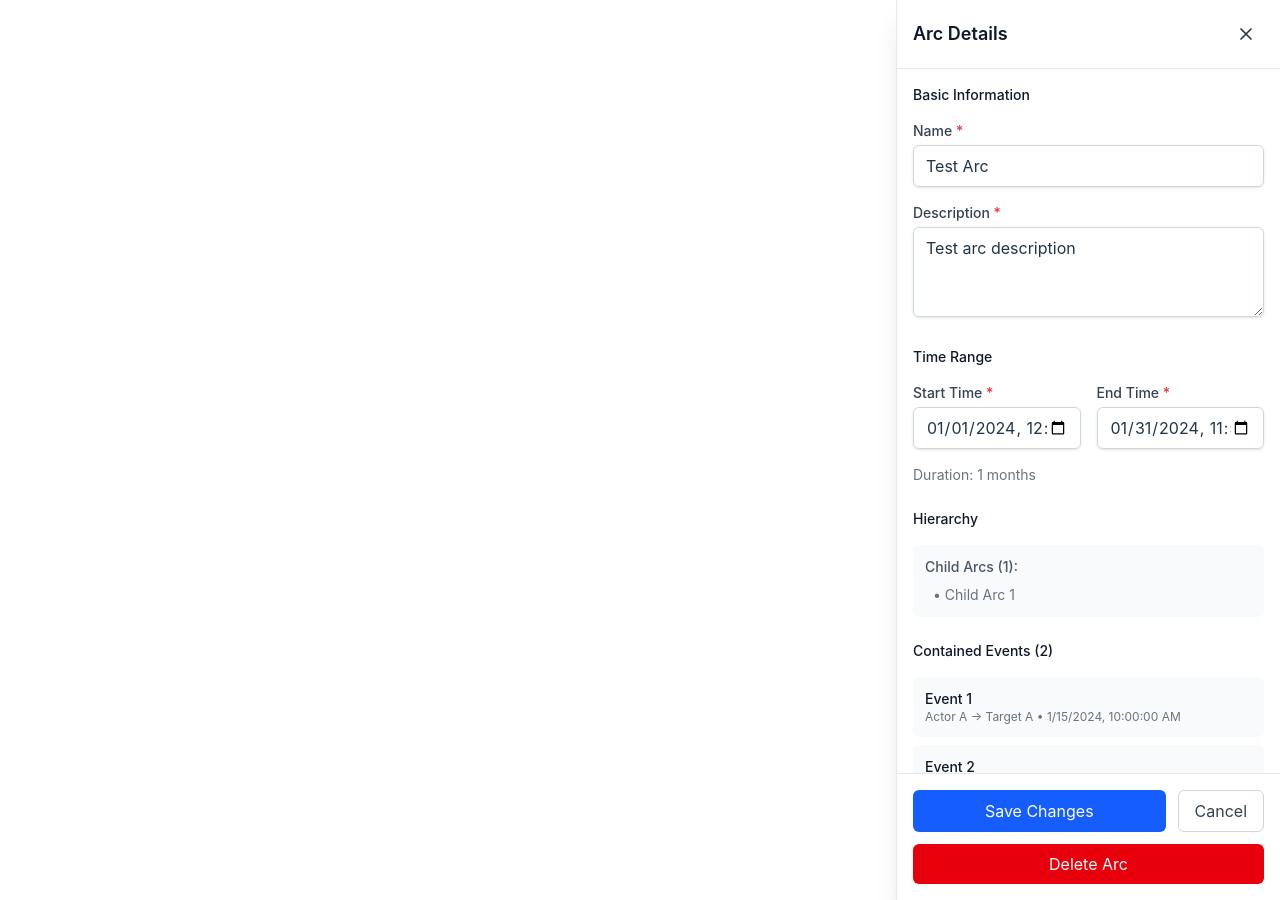
Test: Arc Creation and Editing › ArcDetailPanel › should validate required fields
Clear the field showing "Test Arc": (1088, 166) [913,145,1264,187]
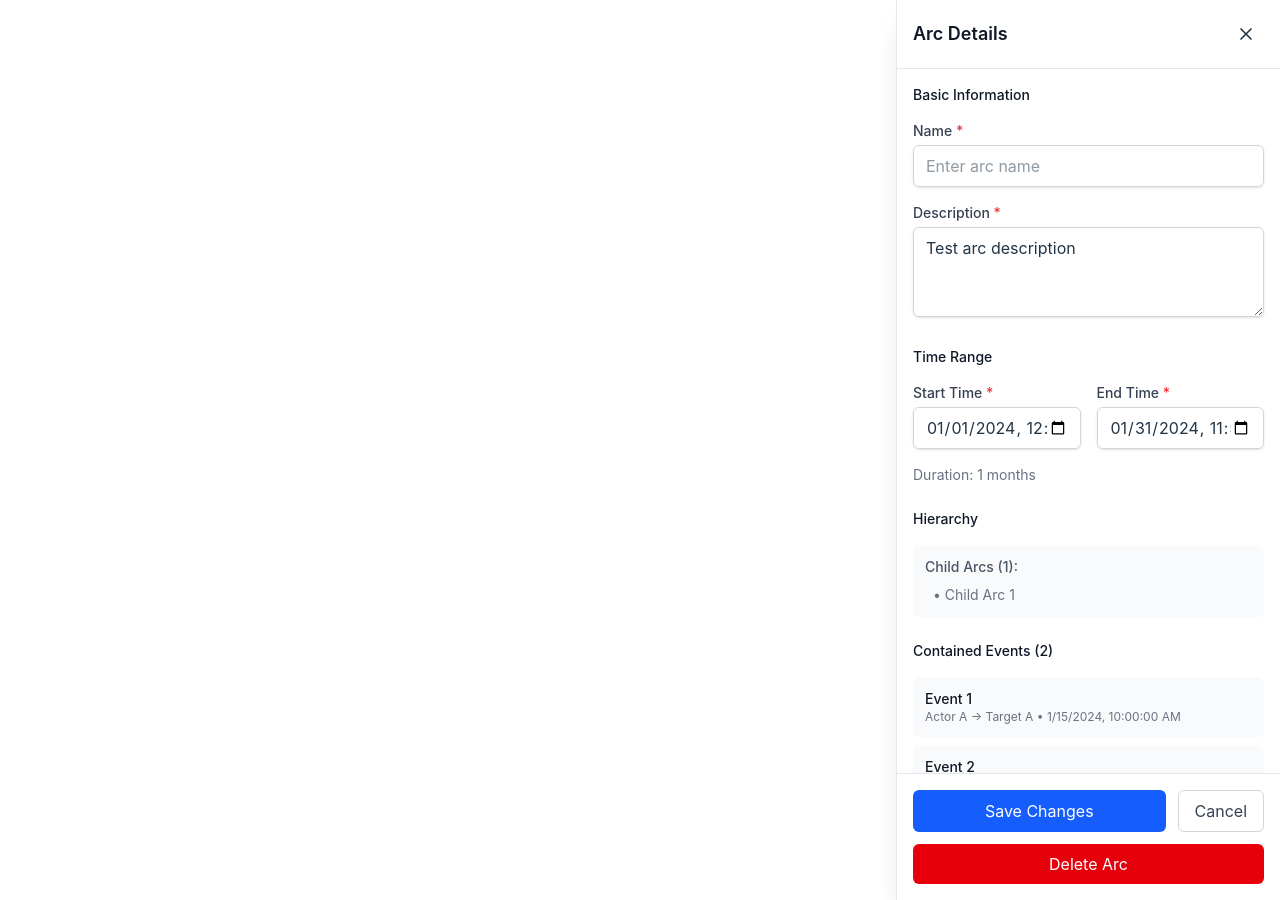
Click the button "Save Changes": (1039, 811) [913,790,1166,832]
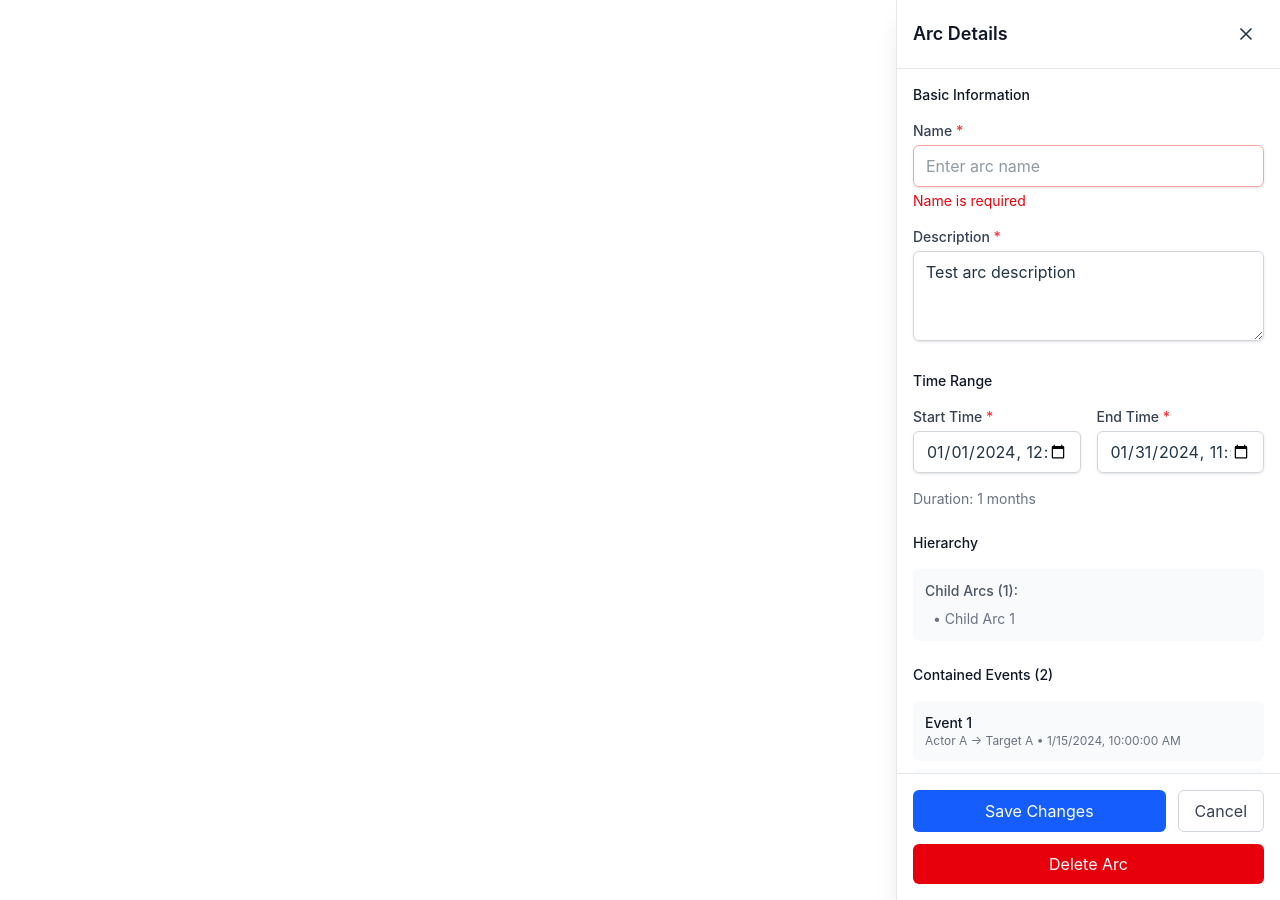
expect the text "Name is required" is shown: met, box [913,192,1026,209]
